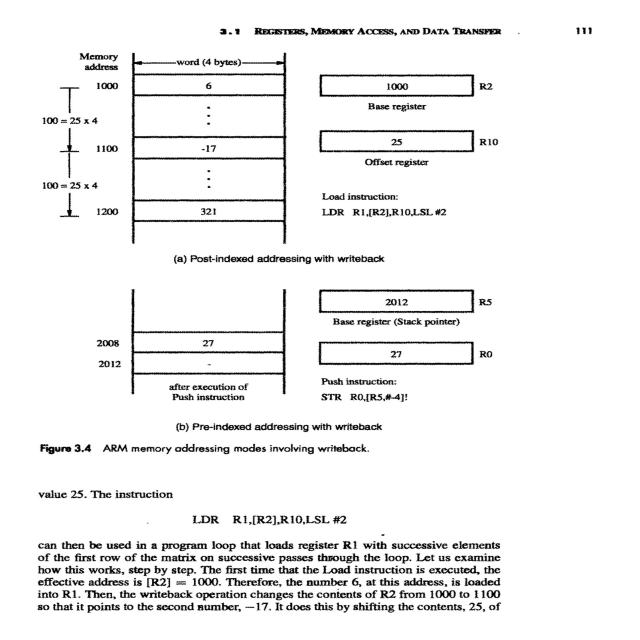diagram: (0, 45, 539, 471)
